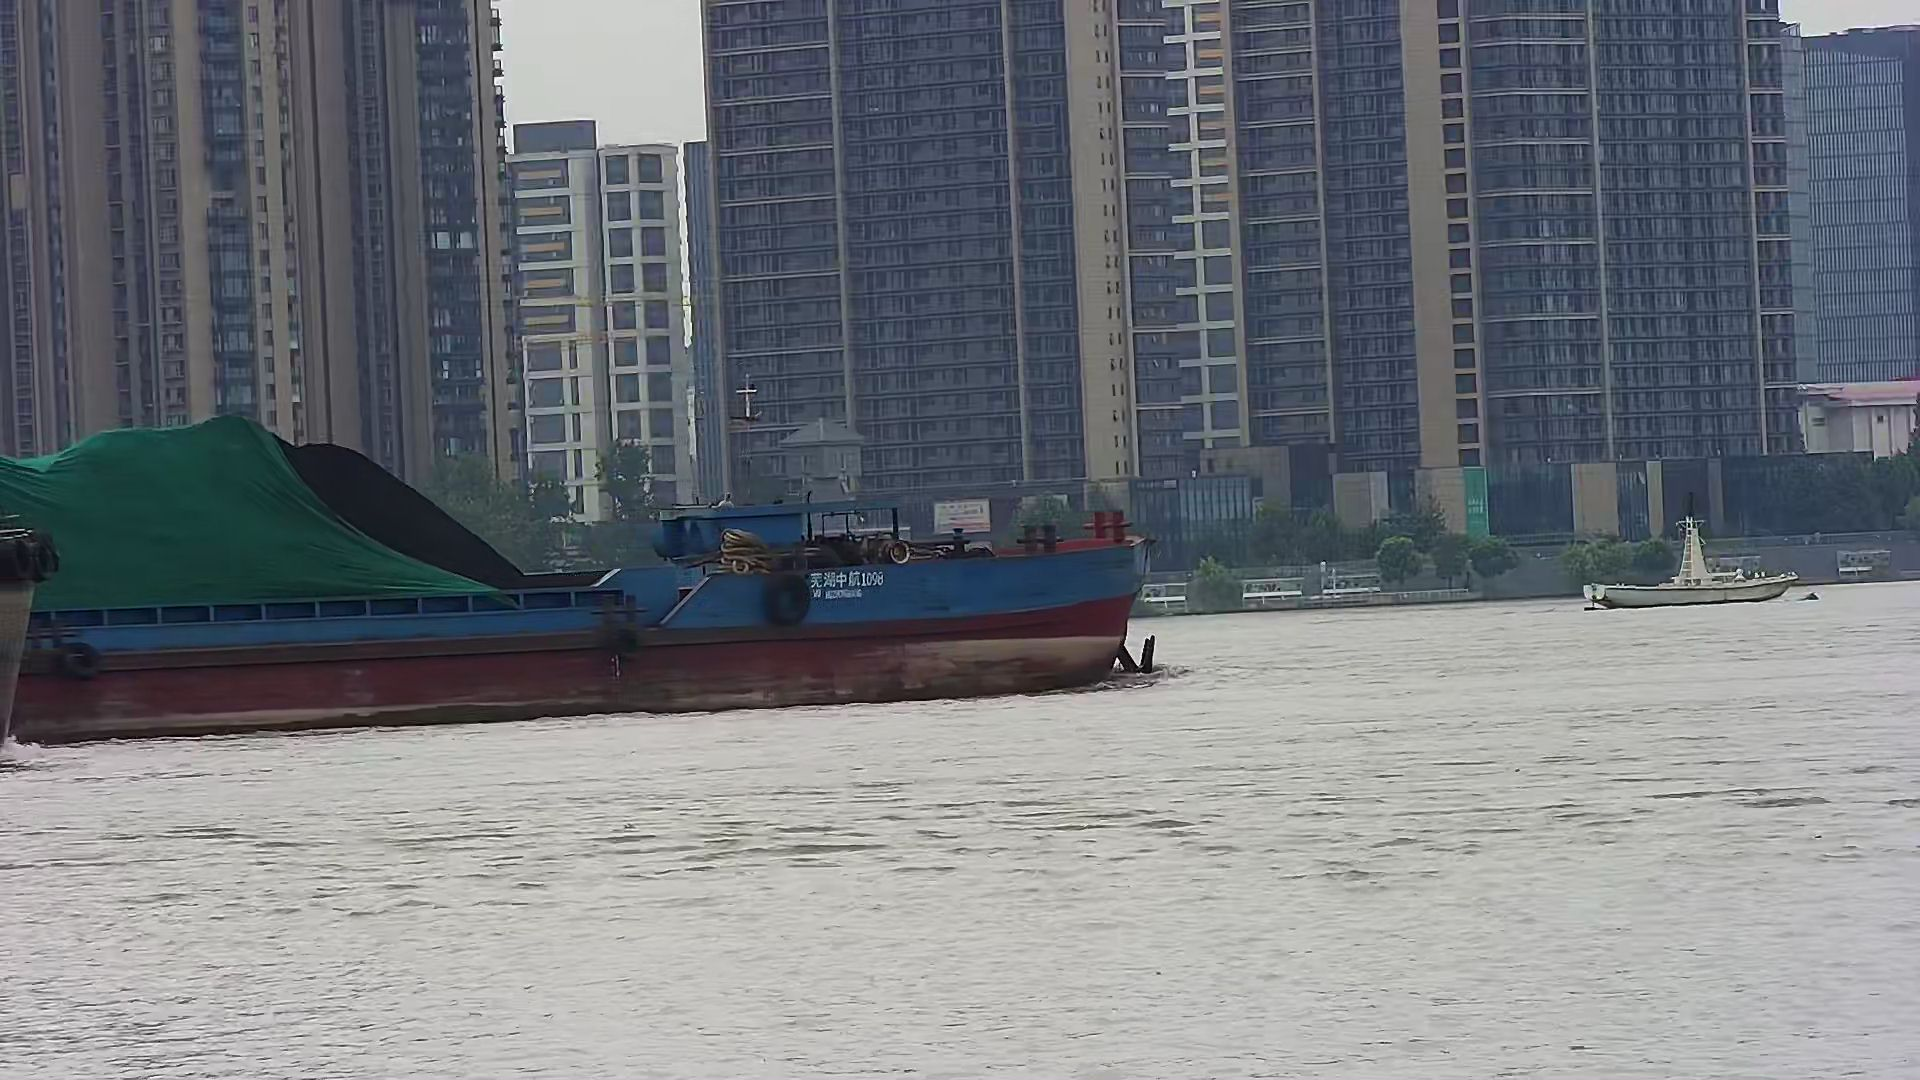boat: (1567, 481, 1807, 624)
ship: (1, 413, 1171, 738)
